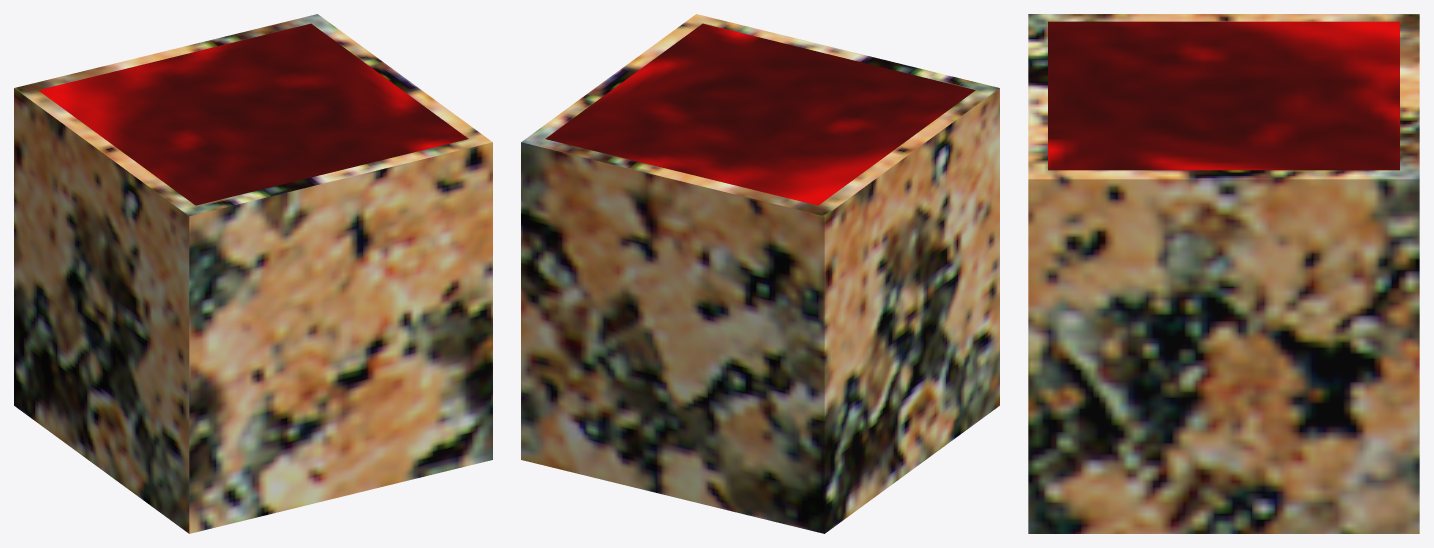
Rendered from Size_3_Hazard.fbx.
3 views of the same model, side by side, from view 1: azimuth 30°, elevation 25°; view 2: azimuth 150°, elevation 25°; view 3: azimuth 270°, elevation 25° (orthographic). The views are drawn at different scales.
Visible parts, largest first — view 1: Floor_Coals; view 2: Floor_Coals; view 3: Floor_Coals.
Part boxes in pixels (x1,y1,x2,y2): Floor_Coals: (14, 14, 492, 533); Floor_Coals: (521, 14, 999, 533); Floor_Coals: (1028, 14, 1419, 533).
Size of the model in its own units: 100 by 100 by 100.
